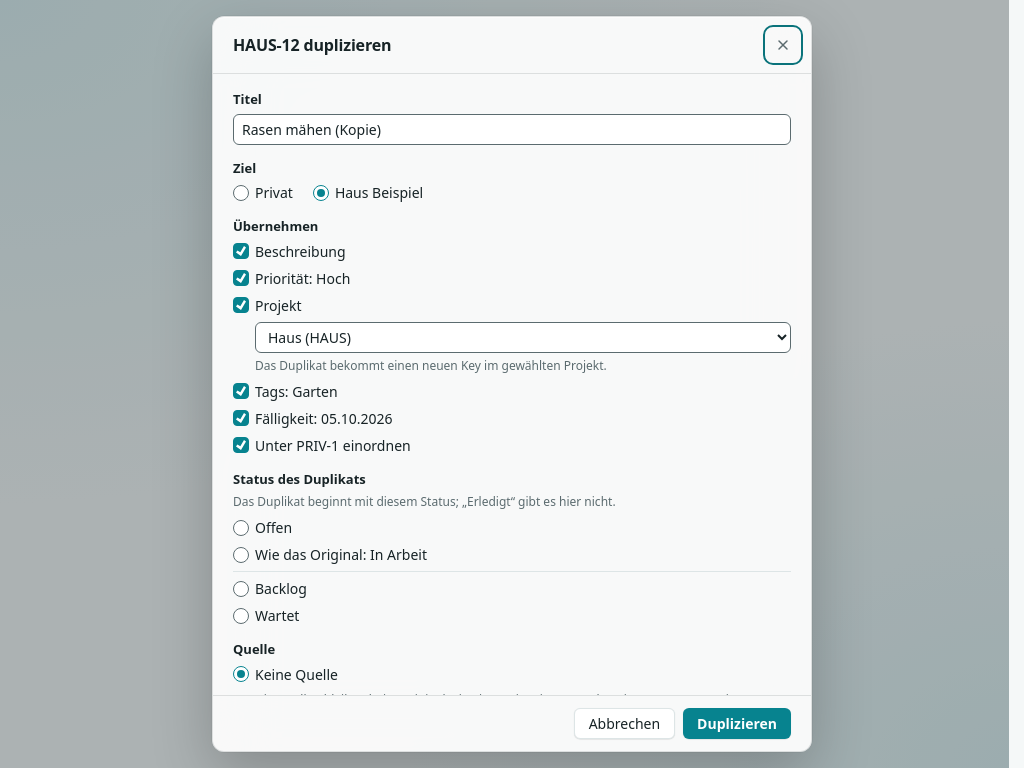
"Ziel": into the other area (MV-2) › offers the private area for a ticket of the household
The image size is (1024, 768).
Expected: the radio button labelled "Haus Beispiel" is checked, [313,184,329,200]
Click the radio button labelled "Privat": (241,192) [233,184,249,200]
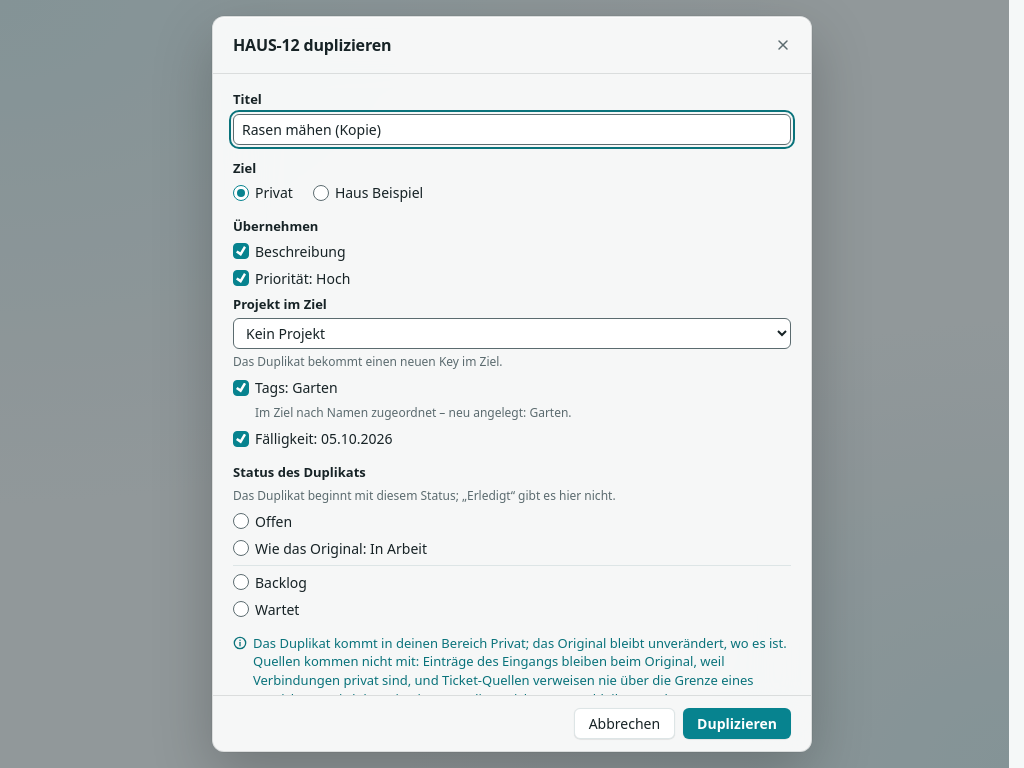
Expected: the text "Das Duplikat kommt in deinen Bereich Privat" is shown, [253,634,787,695]
